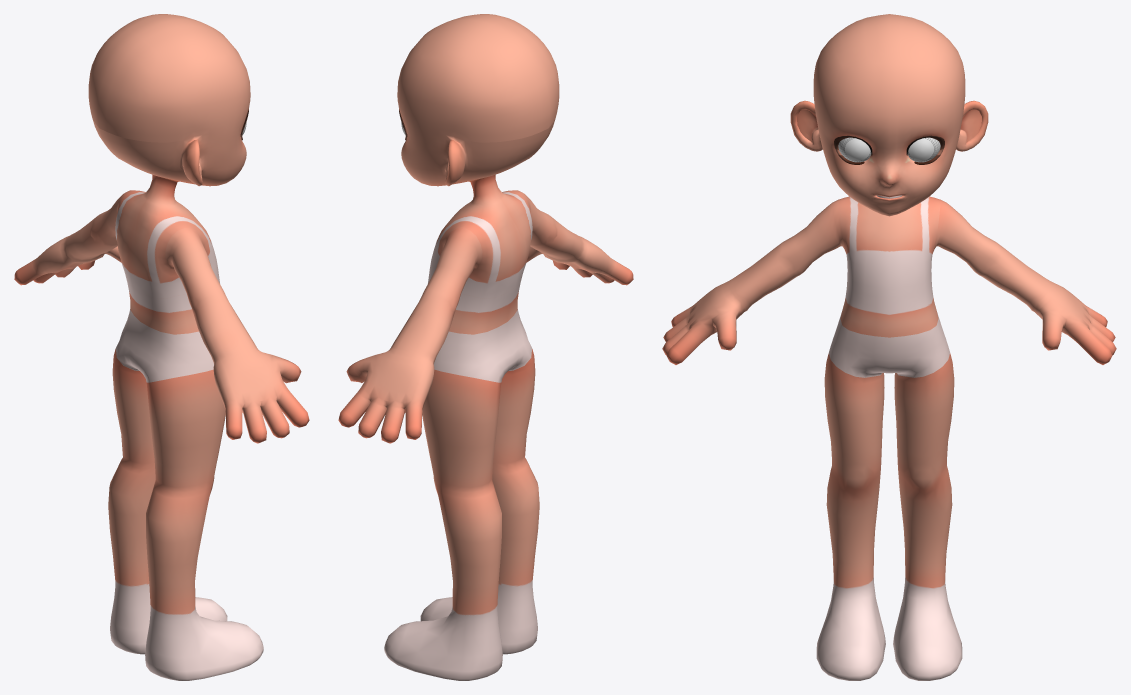
3 renders of one model, left to right at view 1: azimuth 30°, elevation 25°; view 2: azimuth 150°, elevation 25°; view 3: azimuth 270°, elevation 25°, orthographic.
Visible parts, largest first — view 1: Base_model_body; view 2: Base_model_body; view 3: Base_model_body, Base_model_eyes_lenses.
Boxes of the visible parts, box(x1,y1,x2,y2) form: Base_model_body: box(14, 14, 309, 680); Base_model_body: box(338, 14, 633, 680); Base_model_body: box(662, 14, 1116, 680); Base_model_eyes_lenses: box(845, 138, 933, 160).
Bounding box in the file's own units: 54.68 × 225 × 148.
